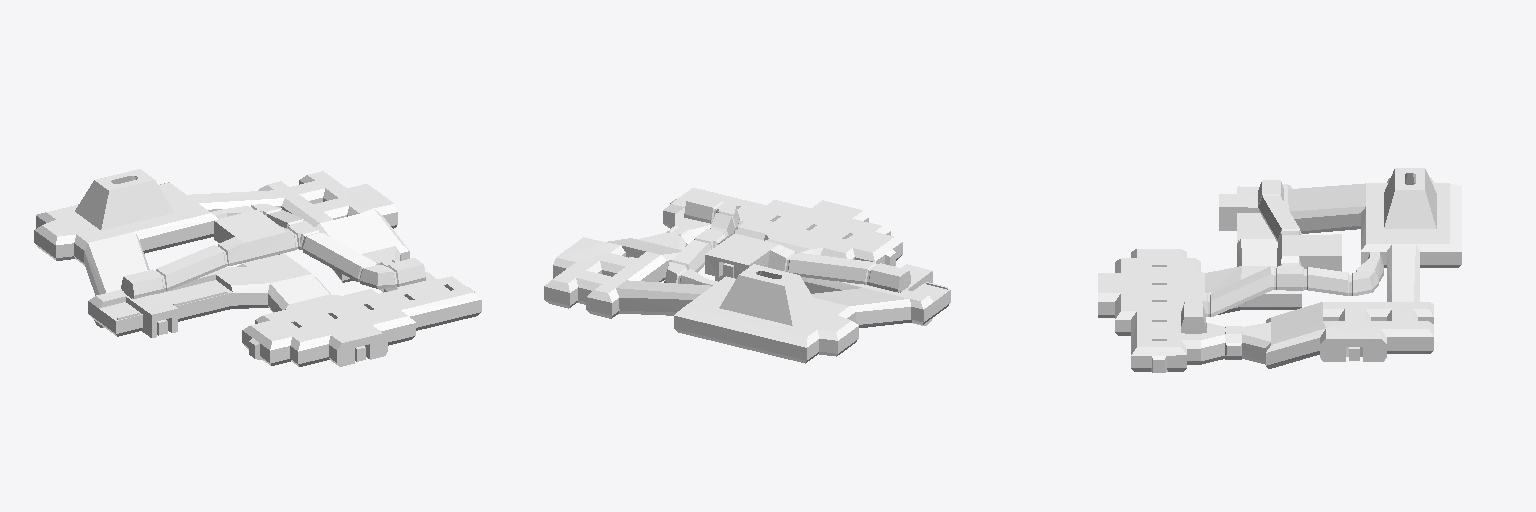
File: ratrace.obj
3 renders of one model, left to right at view 1: azimuth 30°, elevation 25°; view 2: azimuth 150°, elevation 25°; view 3: azimuth 270°, elevation 25°, orthographic.
Visible parts, largest first — view 1: -000, -003, -004, -007, -006, -002, -005; view 2: -000, -004, -003, -002, -008, -005, -009, -007; view 3: -000, -004, -003, -006, -007, -005, -008, -009, -010, -002.
Boxes of the visible parts, <box> form: -000: <box>34,169,329,337</box>; -003: <box>242,272,472,366</box>; -004: <box>188,171,409,282</box>; -007: <box>302,233,394,288</box>; -006: <box>384,284,481,330</box>; -002: <box>387,258,425,286</box>; -005: <box>342,244,409,292</box>; -000: <box>674,233,950,363</box>; -004: <box>544,237,711,318</box>; -003: <box>671,188,902,266</box>; -002: <box>684,194,723,223</box>; -008: <box>672,240,710,272</box>; -005: <box>637,225,694,249</box>; -009: <box>664,262,717,285</box>; -007: <box>710,202,739,236</box>; -000: <box>1205,168,1461,314</box>; -004: <box>1266,244,1433,368</box>; -003: <box>1098,249,1224,346</box>; -006: <box>1131,312,1224,372</box>; -007: <box>1181,267,1275,316</box>; -005: <box>1225,318,1270,364</box>; -008: <box>1304,267,1351,295</box>; -009: <box>1352,252,1383,295</box>; -010: <box>1276,263,1303,290</box>; -002: <box>1181,304,1206,333</box>.
Bounding box in the file's own units: 82.16 × 21.71 × 80.01.